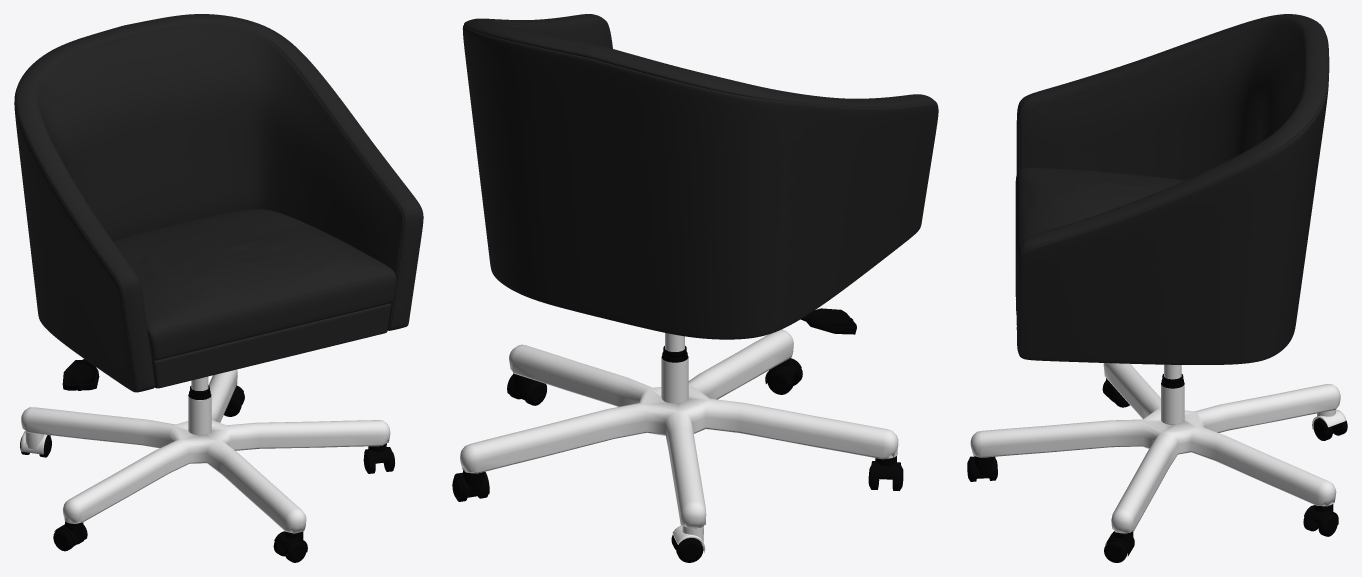
Rendered from Grega-Chair-Larforma.glb.
The picture shows the model from 3 angles, left to right: view 1: azimuth 30°, elevation 25°; view 2: azimuth 150°, elevation 25°; view 3: azimuth 270°, elevation 25°; orthographic projection. The views are drawn at different scales.
Parts seen in each view (by area): view 1: grega; view 2: grega; view 3: grega.
Boxes of the visible parts, box(x1,y1,x2,y2) form: grega: box(14, 14, 423, 562); grega: box(452, 14, 938, 562); grega: box(967, 14, 1347, 562).
Bounding box in the file's own units: 0.693 × 0.8117 × 0.6592.
Materials: 3 (1 with a texture image).
